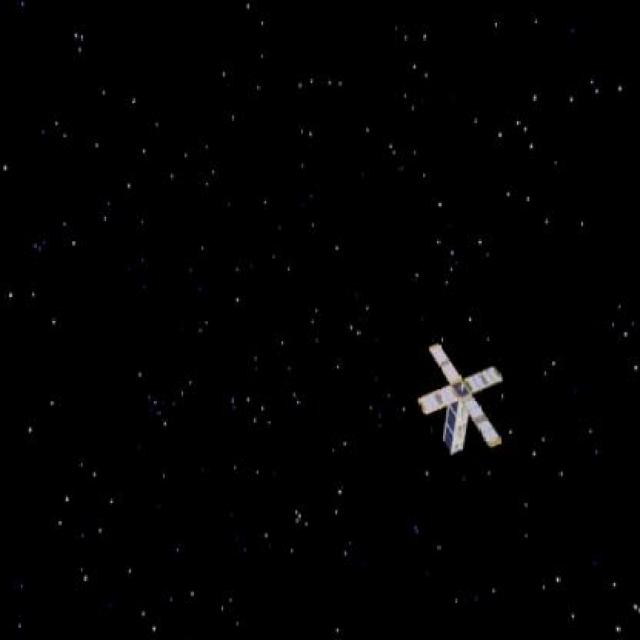medium_debris: (420, 340, 516, 454)
